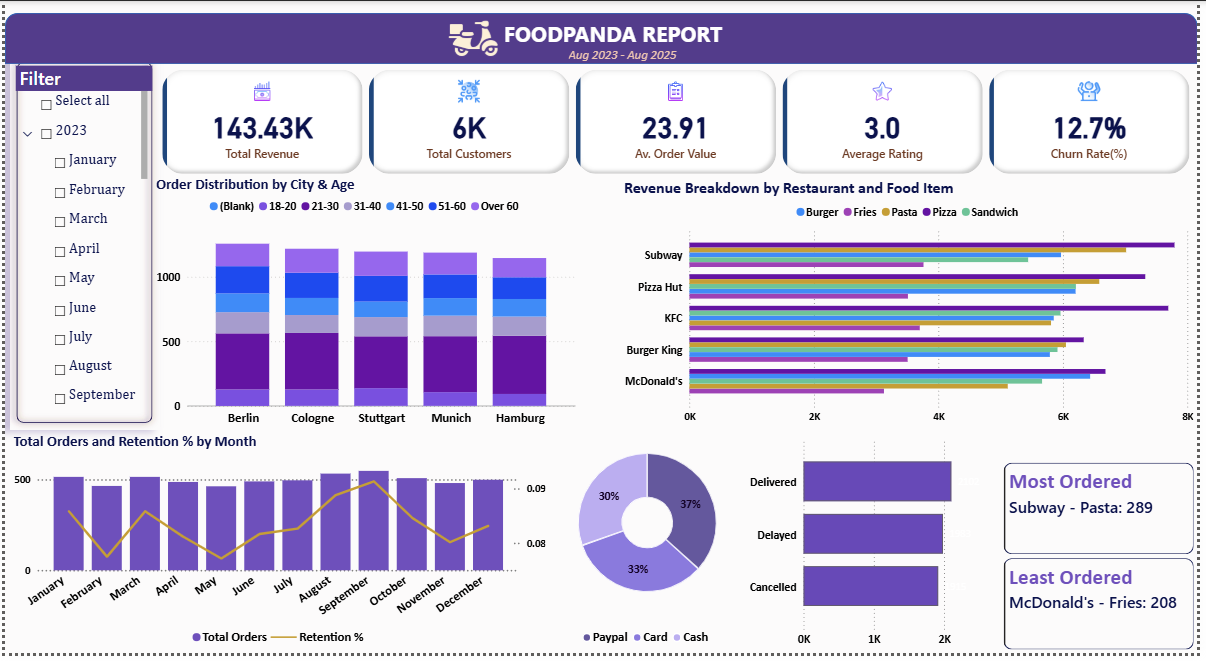

The page's visual inventory and layout, read from the dashboard file:
{"tool":"powerbi","page":{"name":"Page 1","canvas":[1500,820],"ordinal":0},"visuals":[{"type":"shape","box":[5.7,67.9,188.7,471.6],"z":0},{"type":"lineClusteredColumnComboChart","fields":{"Category":["fastfood_delivery.order_date.Variation.Date Hierarchy.Month"],"Y":["fastfood_delivery.Total Orders"],"Y2":["fastfood_delivery.Retention %"]},"box":[5.7,541.4,679.2,279.2],"z":1000},{"type":"cardVisual","fields":{"Data":["fastfood_delivery.Total Revenue","fastfood_delivery.Total Customers","fastfood_delivery.Av. Order Value","fastfood_delivery.Average Rating","fastfood_delivery.Churn Rate(%)"]},"box":[192.9,80.9,1306.6,141.5],"z":2000},{"type":"shape","box":[0,15.1,1499.8,64.1],"z":3000},{"type":"textbox","box":[622.8,17.7,301.7,55],"z":4000},{"type":"textbox","box":[704.5,53.2,255.5,37.3],"z":5000},{"type":"image","box":[530.6,7.1,118.9,72.8],"z":6000},{"type":"columnChart","title":"Order Distribution by City & Age","fields":{"Category":["fastfood_delivery.city"],"Y":["fastfood_delivery.Total Orders"],"Series":["fastfood_delivery.AgeGroup"]},"box":[184.9,218.8,537.7,324.5],"z":7000},{"type":"donutChart","title":"Payment method","fields":{"Category":["fastfood_delivery.payment_method"],"Y":["fastfood_delivery.Payment method"]},"box":[656.5,522.6,301.8,298.1],"z":8000},{"type":"listSlicer","title":"Filter","fields":{"Values":["fastfood_delivery.order_date.Variation.Date Hierarchy.Year","fastfood_delivery.order_date.Variation.Date Hierarchy.Month"]},"box":[13.2,81.1,171.7,441.5],"z":9000},{"type":"clusteredBarChart","title":"Revenue Breakdown by Restaurant and Food Item","fields":{"Category":["fastfood_delivery.restaurant_name"],"Y":["fastfood_delivery.Total Revenue"],"Series":["fastfood_delivery.dish_name"]},"box":[773.5,222.6,726.3,316.9],"z":10000},{"type":"cardVisual","fields":{"Data":["fastfood_delivery.Most Ordered Food (Card)","fastfood_delivery.Least Ordered Food"]},"box":[1250.8,575.4,249,245.3],"z":11000},{"type":"barChart","title":"Delivery Status","fields":{"Category":["fastfood_delivery.status"],"Y":["fastfood_delivery.Order Count by Status"]},"box":[930.1,539.6,320.7,281.1],"z":12000}]}

Visuals, with their boxes in screenshot pixels (x1, y1, x2, y2), scaled from the page's 1500x820 canvas onto the 1206x661 screenshot:
shape: <box>5,55,156,435</box>
lineClusteredColumnComboChart - fastfood_delivery.order_date.Variation.Date Hierarchy.Month x fastfood_delivery.Total Orders: <box>5,436,551,660</box>
cardVisual - fastfood_delivery.Total Revenue x fastfood_delivery.Total Customers: <box>155,65,1205,179</box>
shape: <box>0,12,1205,64</box>
textbox: <box>501,14,743,59</box>
textbox: <box>566,43,772,73</box>
image: <box>427,6,522,64</box>
"Order Distribution by City & Age" columnChart: <box>149,176,581,438</box>
"Payment method" donutChart: <box>528,421,770,660</box>
"Filter" listSlicer: <box>11,65,149,421</box>
"Revenue Breakdown by Restaurant and Food Item" clusteredBarChart: <box>622,179,1205,435</box>
cardVisual - fastfood_delivery.Most Ordered Food (Card) x fastfood_delivery.Least Ordered Food: <box>1006,464,1205,660</box>
"Delivery Status" barChart: <box>748,435,1006,660</box>
